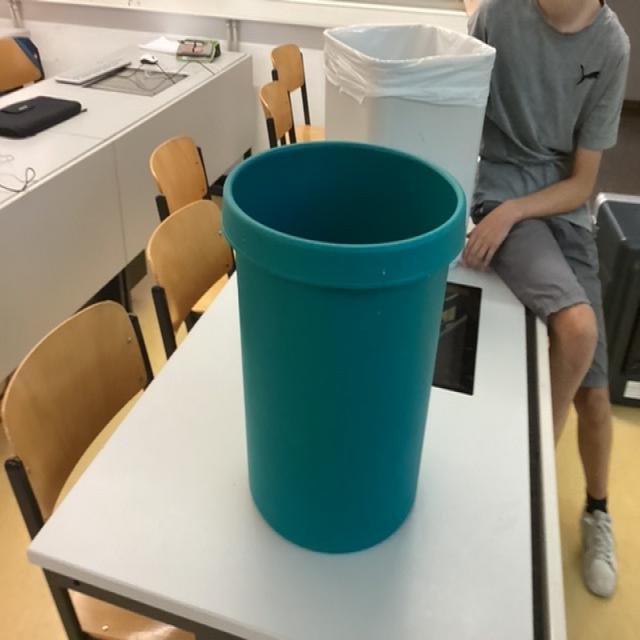garbage container: (190, 136, 482, 576)
